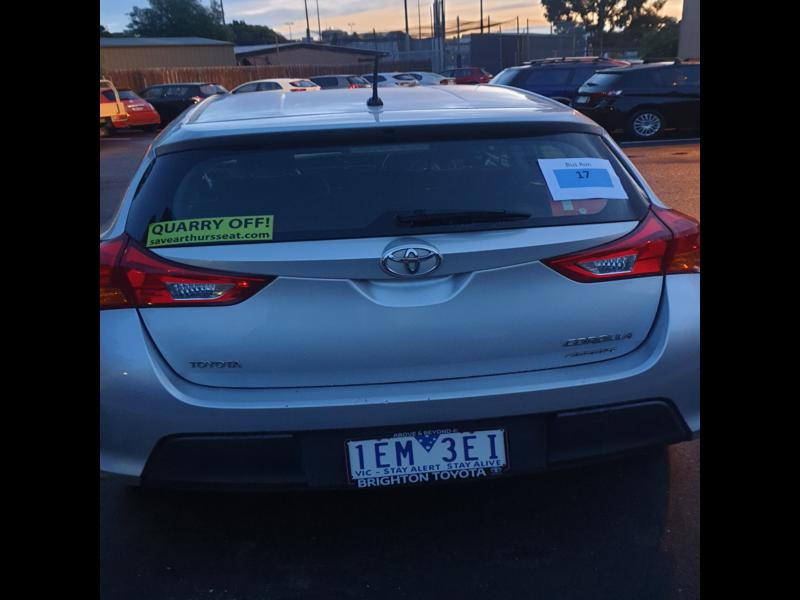BusRun: (554, 170, 612, 185)
PlateNo: (348, 432, 507, 474)
